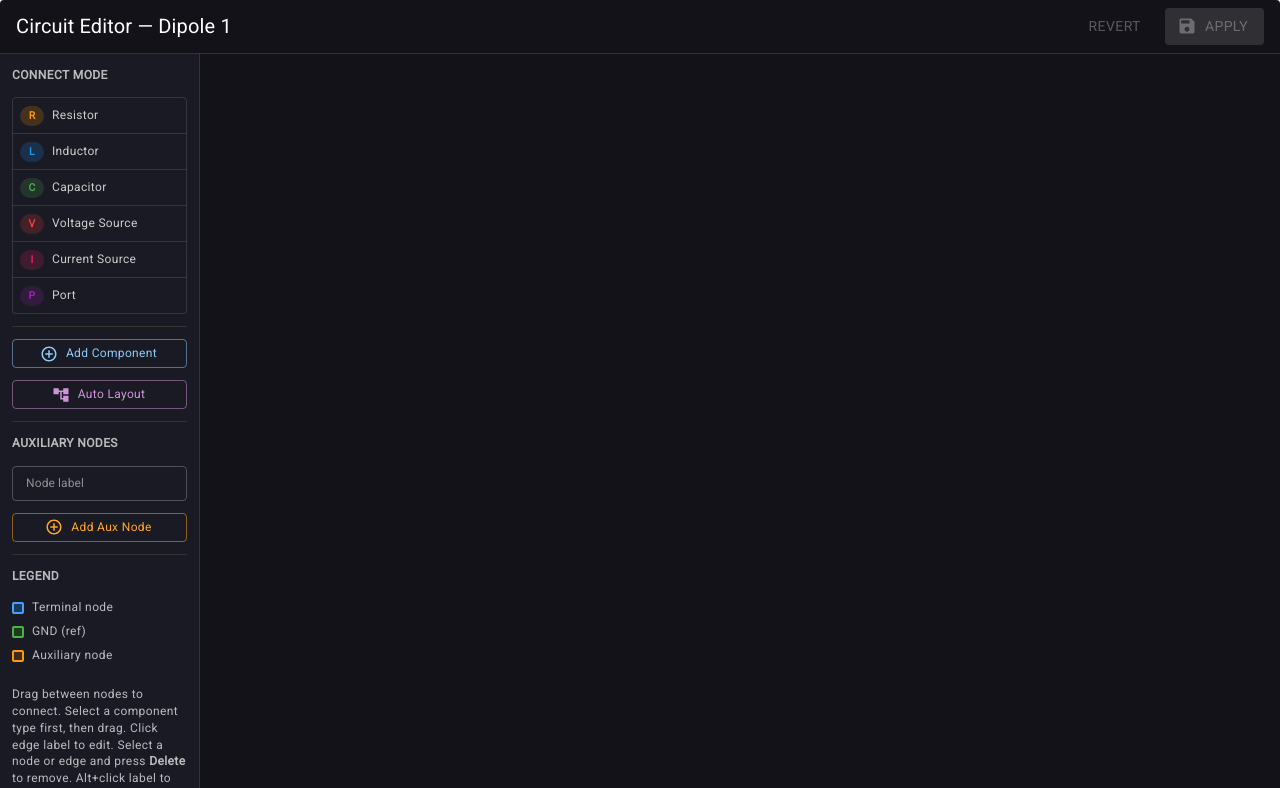
it: circuit editor in the Circuit tab › stays open after Apply; Revert goes back to what was applied
The image size is (1280, 788).
Check: the text "Unsaved changes" is not shown
Check: the button "Apply" is disabled, box [1165,8,1264,44]
Click the button "Add Aux Node" at (100, 527), box [12,513,187,542]
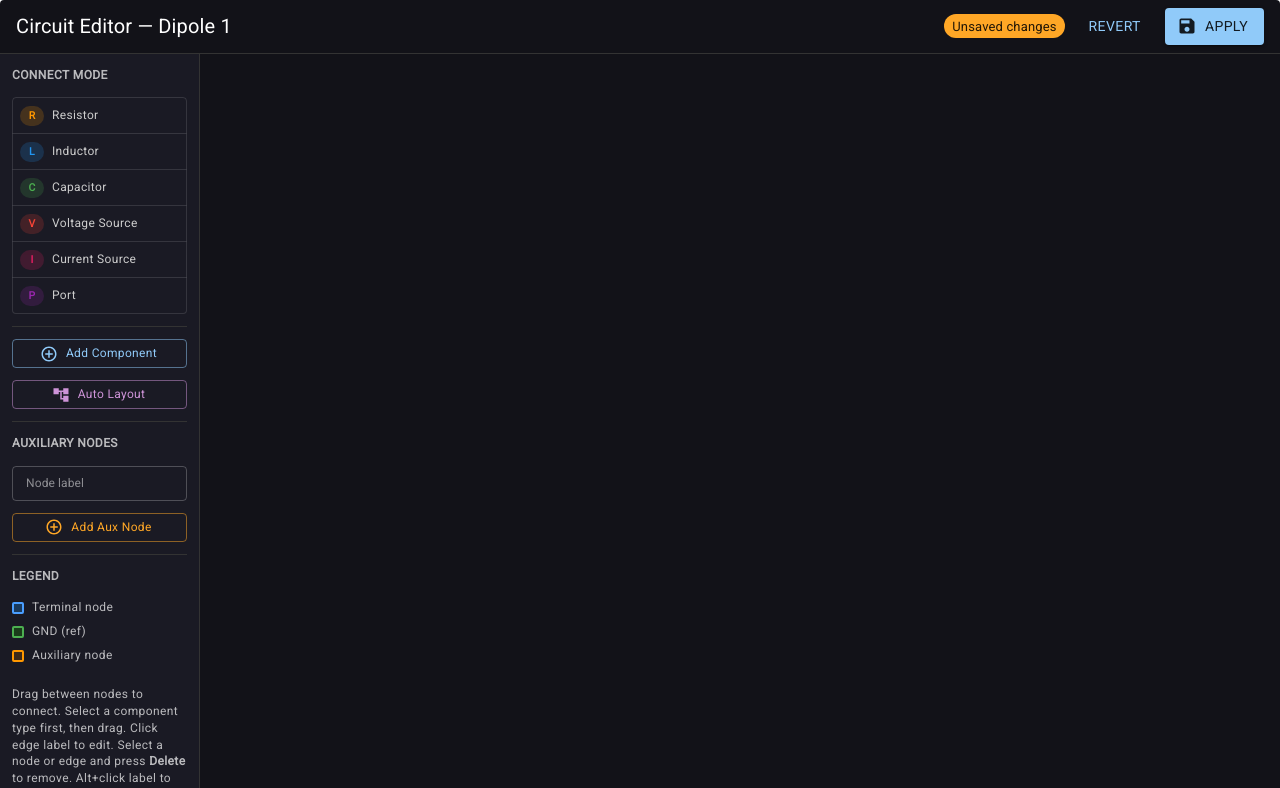
Check: the text "Unsaved changes" is shown, box [944,16,1065,36]
Click the button "Revert" at (1115, 26), box [1081,8,1149,44]
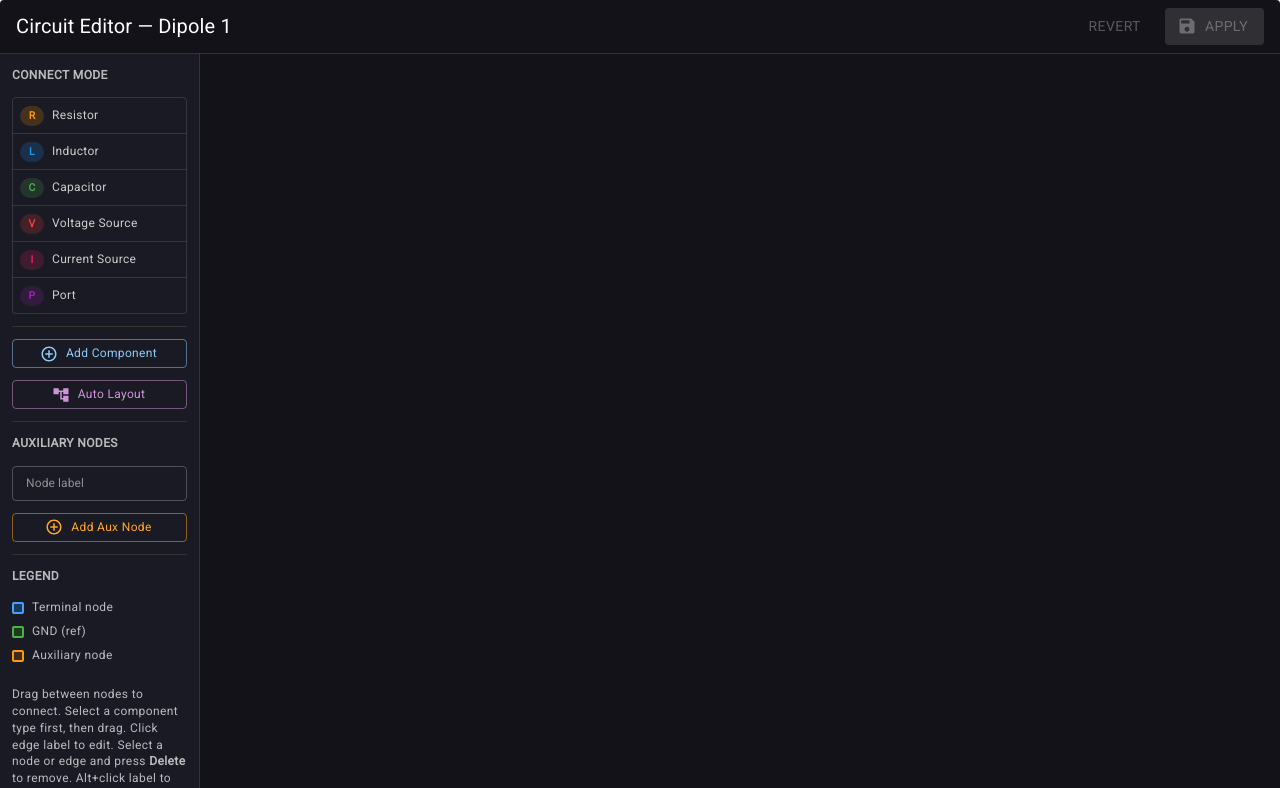
Check: the text "Unsaved changes" is gone
Click the button "Add Aux Node" at (100, 527), box [12,513,187,542]
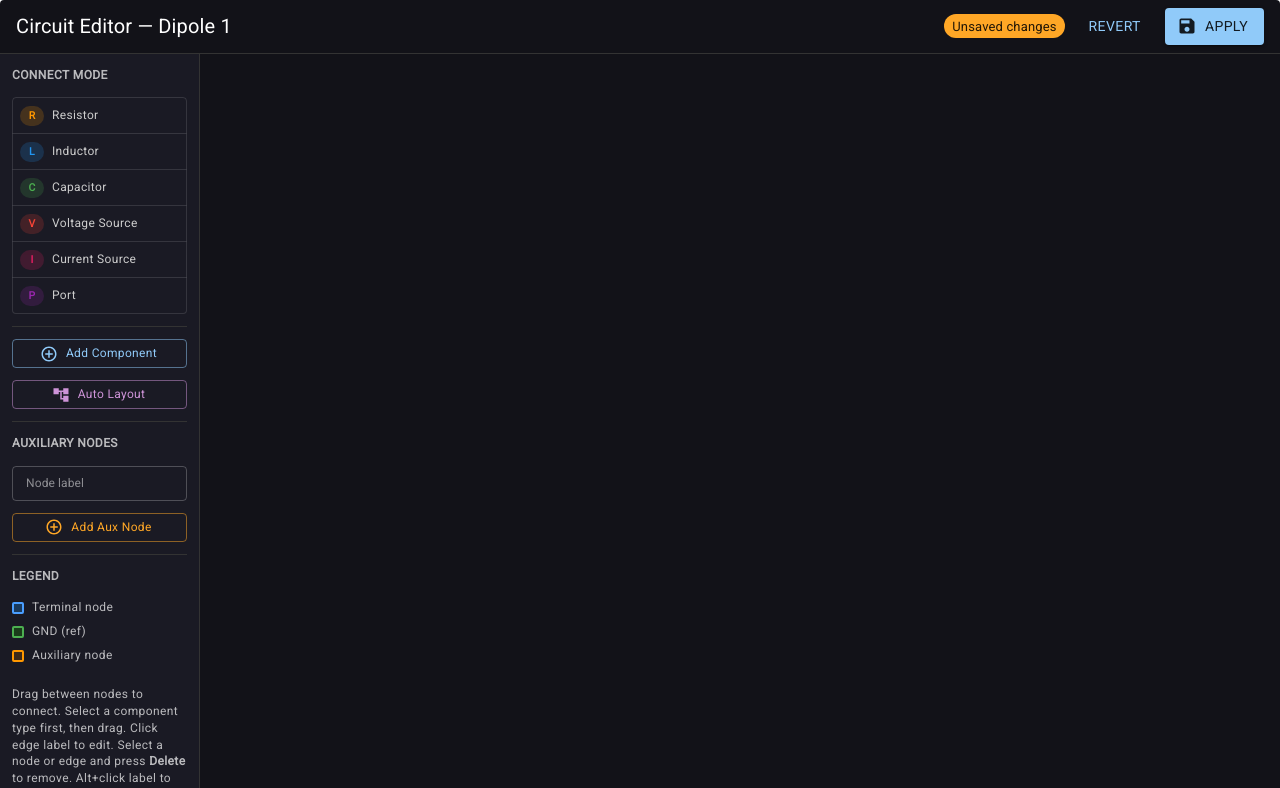
Click the button "Apply" at (1214, 26), box [1165,8,1264,44]
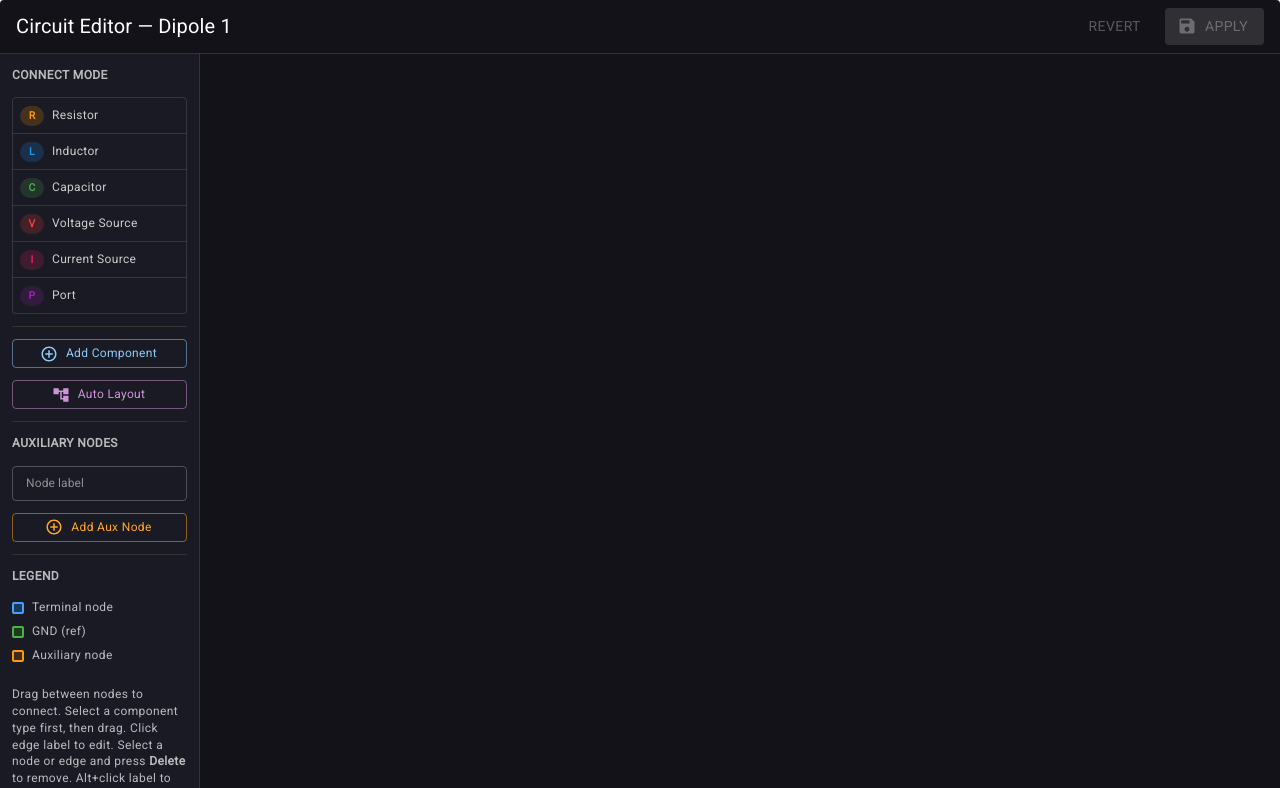
Check: the text "Unsaved changes" is gone
